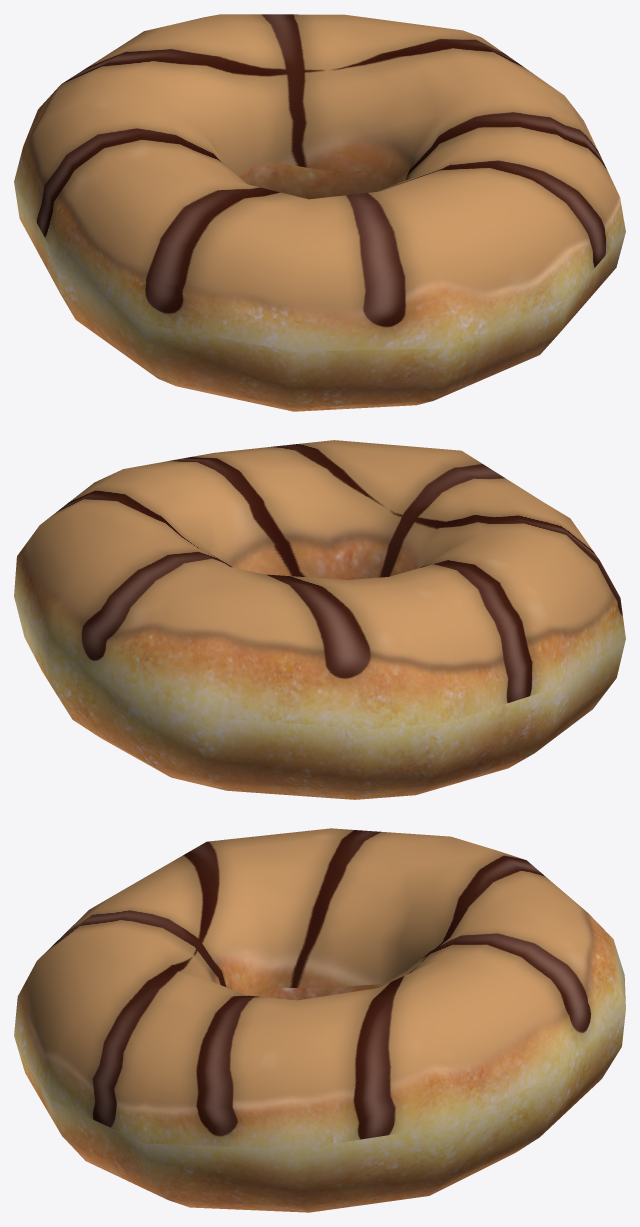
Rendered from Donut1LP.obj.
3 views of the same model, one above another, from view 1: azimuth 30°, elevation 25°; view 2: azimuth 150°, elevation 25°; view 3: azimuth 270°, elevation 25° (orthographic).
Visible parts, largest first — view 1: donut069; view 2: donut069; view 3: donut069.
Part boxes in pixels (x1,y1,x2,y2): donut069: (14,14,625,411); donut069: (14,440,625,799); donut069: (14,828,625,1212).
Bounding box in the file's own units: 9.42 × 3.94 × 9.78.
Materials: 1 (1 with a texture image).
